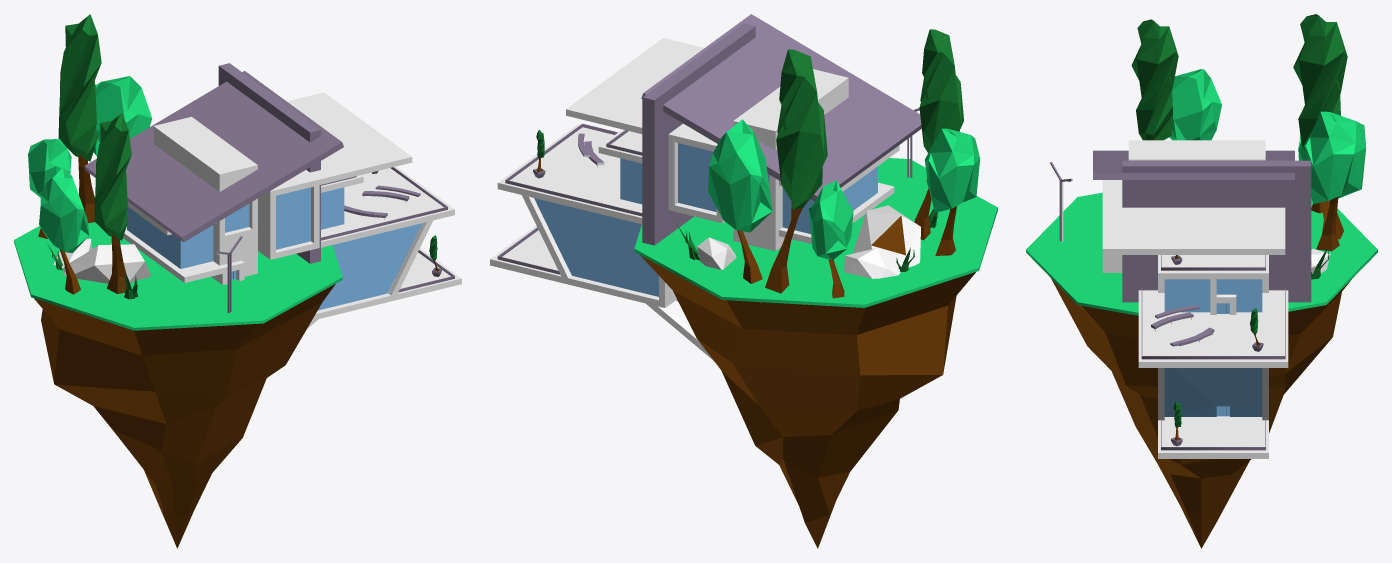
Rendered from Skyscraper.glb.
The picture shows the model from 3 angles, left to right: view 1: azimuth 30°, elevation 25°; view 2: azimuth 150°, elevation 25°; view 3: azimuth 270°, elevation 25°; orthographic projection. The views are drawn at different scales.
Visible parts, largest first — view 1: Flat Grass_01 - Default_0; view 2: Flat Grass_01 - Default_0; view 3: Flat Grass_01 - Default_0.
Boxes of the visible parts, bbox=[...] form: Flat Grass_01 - Default_0: bbox=[14, 14, 461, 548]; Flat Grass_01 - Default_0: bbox=[490, 14, 997, 548]; Flat Grass_01 - Default_0: bbox=[1026, 14, 1377, 548].
Bounding box in the file's own units: 3.21 × 3.75 × 2.31.
